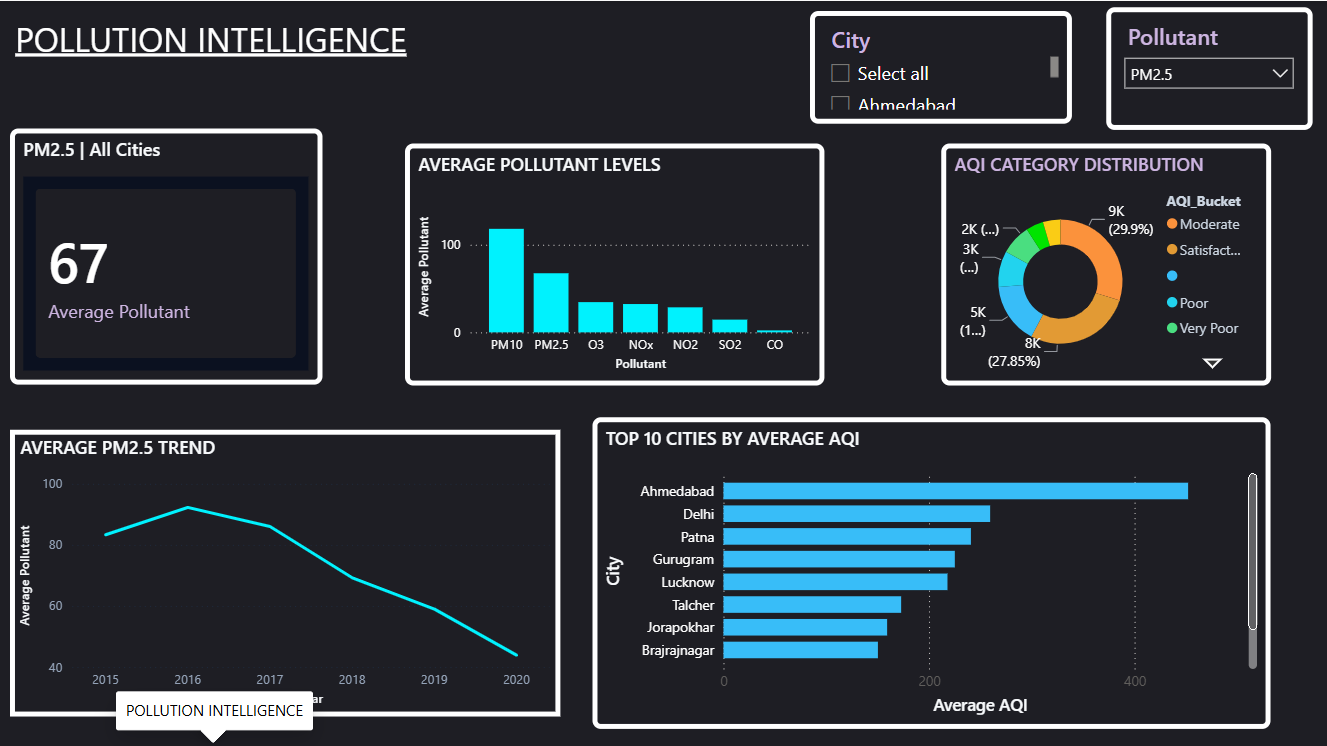

The page's visual inventory and layout, read from the dashboard file:
{"tool":"powerbi","page":{"name":"POLLUTION INTELLIGENCE","canvas":[1280,720],"ordinal":1},"visuals":[{"type":"textbox","box":[9.6,9.6,562.6,79.6],"z":0},{"type":"clusteredColumnChart","title":"AVERAGE POLLUTANT LEVELS","fields":{"Category":["Pollutant.Pollutant"],"Y":["fact_airquality.Average Pollutant"]},"box":[391.1,137.2,404.8,233.3],"z":1000},{"type":"slicer","fields":{"Values":["dim_city.City"]},"box":[782.2,9.6,252.5,108.4],"z":2000},{"type":"lineChart","fields":{"Y":["fact_airquality.Average Pollutant"],"Category":["Dim_Date.Year"]},"box":[9.6,414.4,531,277.2],"z":3000},{"type":"slicer","fields":{"Values":["Pollutant.Pollutant"]},"box":[1067.6,5.5,199,118],"z":4000},{"type":"cardVisual","fields":{"Data":["fact_airquality.Average Pollutant"]},"box":[9.6,123.5,301.9,247],"z":5000},{"type":"donutChart","title":"AQI CATEGORY DISTRIBUTION","fields":{"Category":["fact_airquality.AQI_Bucket"],"Y":["fact_airquality.AQI Records"]},"box":[908.4,137.2,318.4,233.3],"z":6000},{"type":"clusteredBarChart","title":"TOP 10 CITIES BY AVERAGE AQI","fields":{"Category":["dim_city.City"],"Y":["fact_airquality.Average AQI"]},"box":[572.2,402.1,654.5,300.5],"z":7000}]}

Visuals, with their boxes in screenshot pixels (x1, y1, x2, y2), scaled from the page's 1280x720 canvas onto the 1327x746 screenshot:
textbox: 10:10:593:92
"AVERAGE POLLUTANT LEVELS" clusteredColumnChart: 405:142:825:384
slicer - dim_city.City: 811:10:1073:122
lineChart - fact_airquality.Average Pollutant x Dim_Date.Year: 10:429:560:717
slicer - Pollutant.Pollutant: 1107:6:1313:128
cardVisual - fact_airquality.Average Pollutant: 10:128:323:384
"AQI CATEGORY DISTRIBUTION" donutChart: 942:142:1272:384
"TOP 10 CITIES BY AVERAGE AQI" clusteredBarChart: 593:417:1272:728
